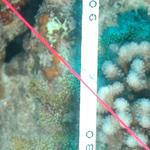alive: (1, 1, 147, 146)
